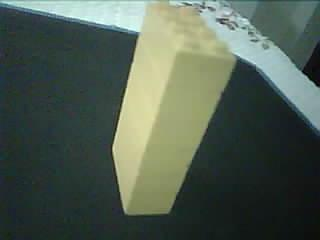lego: (110, 2, 235, 215)
